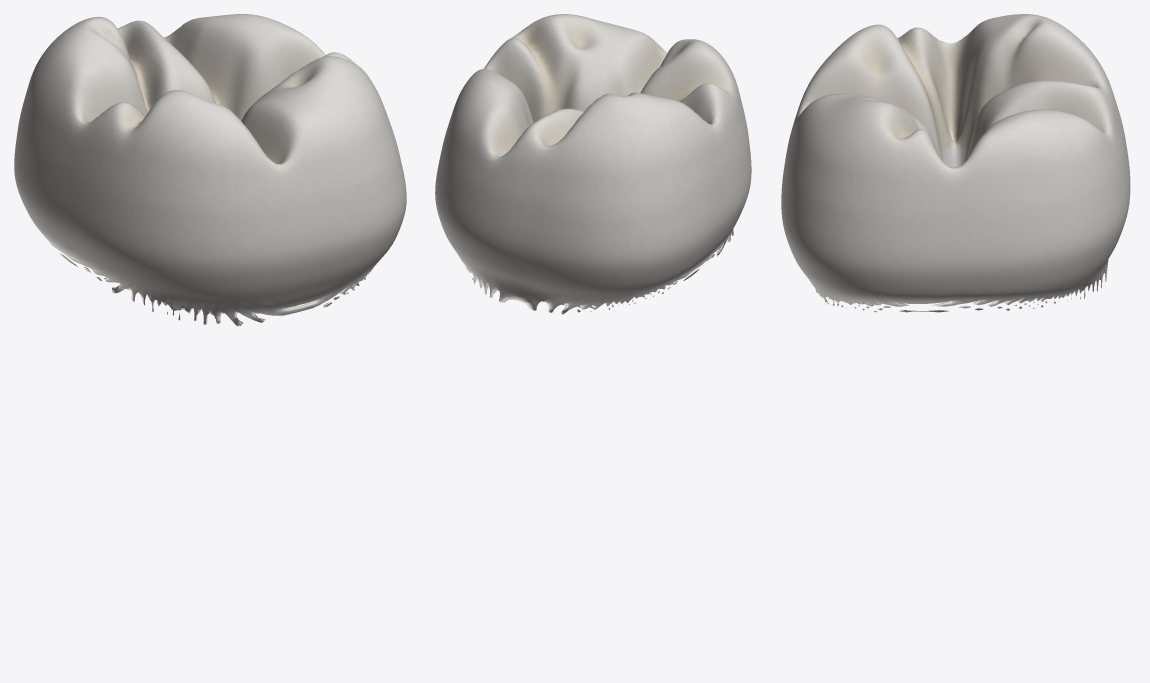
The model's file is enamel.glb.
The picture shows the model from 3 angles, left to right: view 1: azimuth 30°, elevation 25°; view 2: azimuth 150°, elevation 25°; view 3: azimuth 270°, elevation 25°; orthographic projection. The views are drawn at different scales.
Parts seen in each view (by area): view 1: enamel; view 2: enamel; view 3: enamel.
Part boxes in pixels (x1,y1,x2,y2): enamel: [14, 14, 406, 326]; enamel: [435, 14, 751, 314]; enamel: [781, 14, 1130, 312].
Size of the model in its own units: 10.89 by 21.83 by 11.67.
